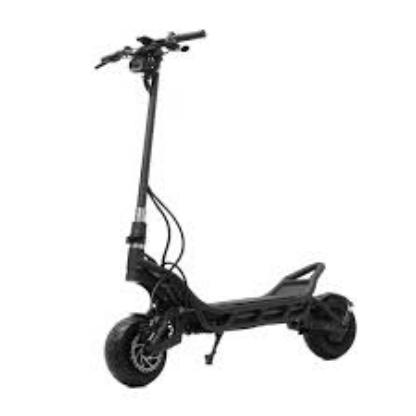bike: (103, 25, 359, 389), (104, 226, 357, 388)
